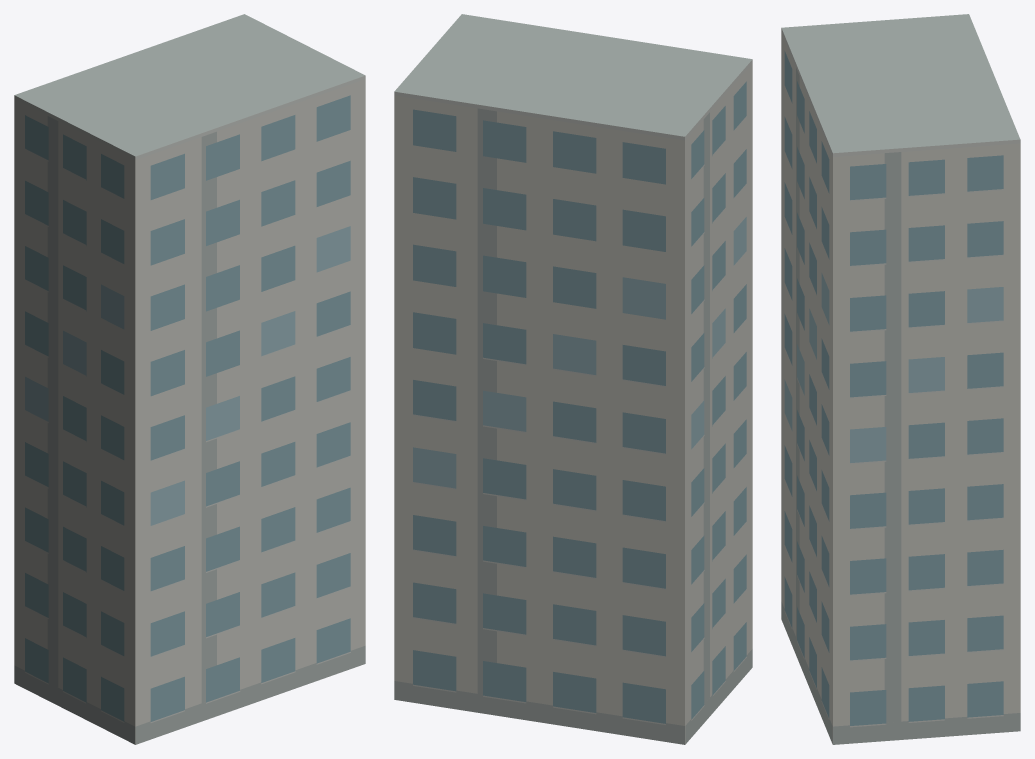
File: residential-d0f0edcc-b543-4ecb-87af-bd961a35a0dd.glb
The picture shows the model from 3 angles, left to right: view 1: azimuth 30°, elevation 25°; view 2: azimuth 150°, elevation 25°; view 3: azimuth 270°, elevation 25°; orthographic projection. The views are drawn at different scales.
Visible parts, largest first — view 1: residential-d0f0edcc-b543-4ecb-87af-bd961a35a0dd.tmp; view 2: residential-d0f0edcc-b543-4ecb-87af-bd961a35a0dd.tmp; view 3: residential-d0f0edcc-b543-4ecb-87af-bd961a35a0dd.tmp.
Boxes of the visible parts, x1,y1,x2,y2 form: residential-d0f0edcc-b543-4ecb-87af-bd961a35a0dd.tmp: (14, 14, 365, 744); residential-d0f0edcc-b543-4ecb-87af-bd961a35a0dd.tmp: (394, 14, 752, 744); residential-d0f0edcc-b543-4ecb-87af-bd961a35a0dd.tmp: (781, 14, 1020, 744).
Bounding box in the file's own units: 19.69 × 39 × 14.29.
